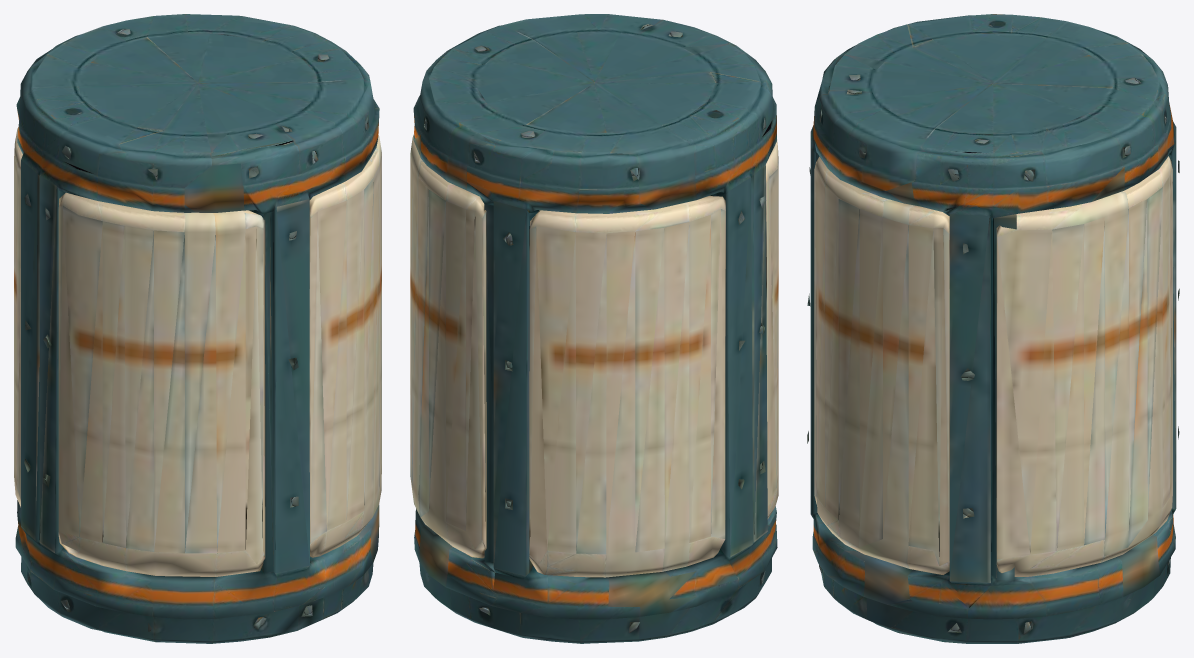
File: rocket_lower_hull-lod1.e67b13c61417.glb
3 views of the same model, side by side, from view 1: azimuth 30°, elevation 25°; view 2: azimuth 150°, elevation 25°; view 3: azimuth 270°, elevation 25° (orthographic).
Parts seen in each view (by area): view 1: geometry_0; view 2: geometry_0; view 3: geometry_0.
Part boxes in pixels (x1,y1,x2,y2): geometry_0: [14, 14, 381, 643]; geometry_0: [410, 14, 778, 643]; geometry_0: [807, 14, 1179, 643].
Bounding box in the file's own units: 0.646 × 0.9507 × 0.6489.
Materials: 1 (1 with a texture image).
